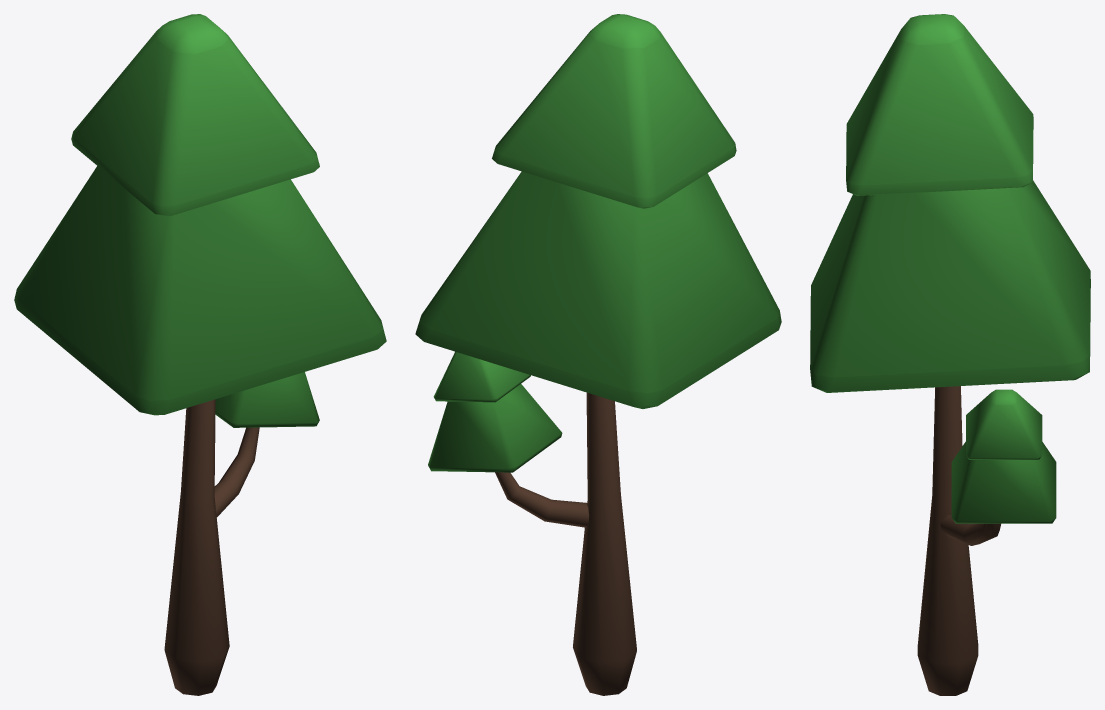
The model's file is tree_pine_1.glb.
3 renders of one model, left to right at view 1: azimuth 30°, elevation 25°; view 2: azimuth 150°, elevation 25°; view 3: azimuth 270°, elevation 25°, orthographic.
Parts seen in each view (by area): view 1: tree_pine_1; view 2: tree_pine_1; view 3: tree_pine_1.
Boxes of the visible parts, left/top/right/bottom form: tree_pine_1: left=14, top=14, right=386, bottom=695; tree_pine_1: left=415, top=14, right=781, bottom=695; tree_pine_1: left=810, top=14, right=1090, bottom=695.
Bounding box in the file's own units: 3.04 × 8 × 3.04.
